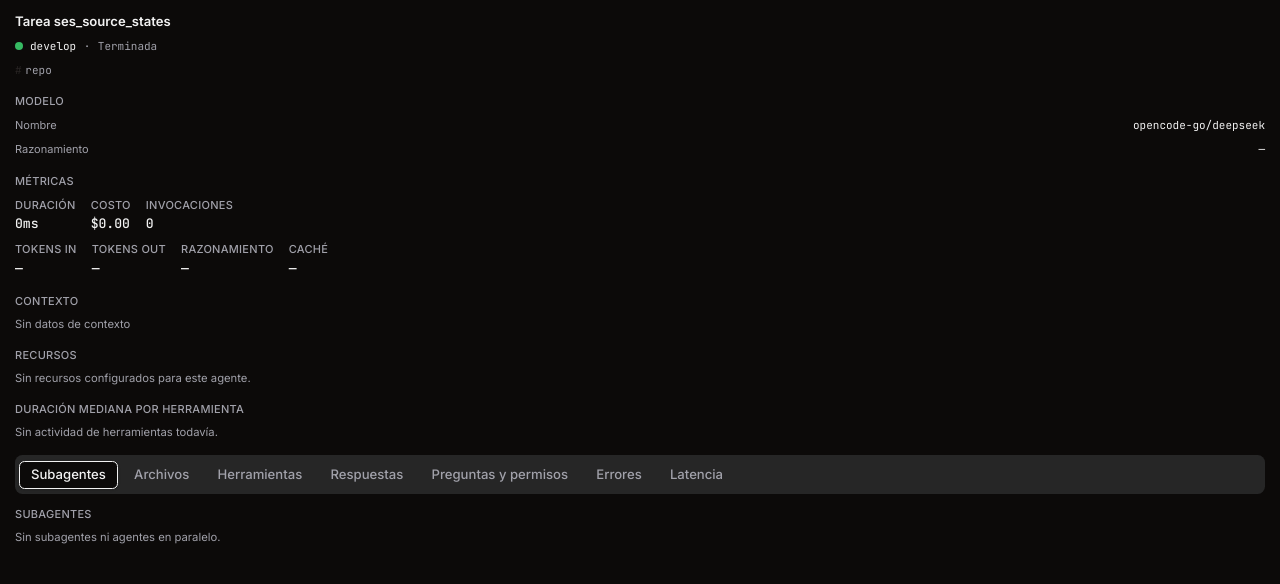
InspectorPanel — estados por fuente de cada sección (§5, U6↔U4) › Preguntas y permisos: solo las preguntas en carga muestran el esqueleto y nunca el vacío
Click the tab "Preguntas y permisos" at (500,475), box left=419, top=461, right=580, bottom=489
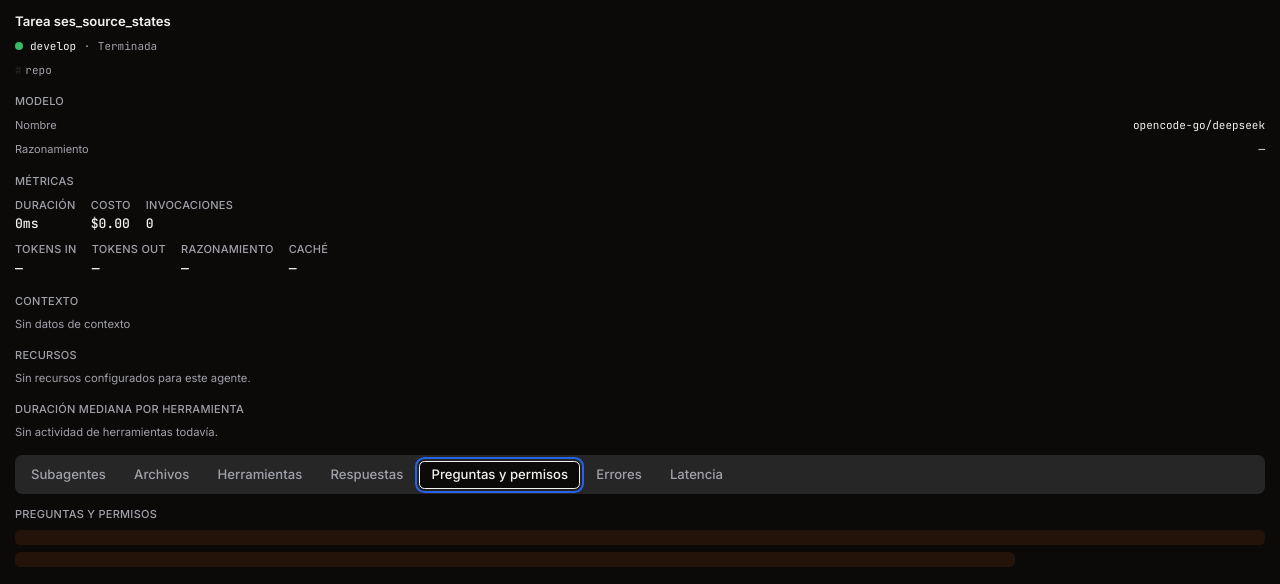
Result: the text "Preguntas y permisos" is shown at left=15, top=506, right=157, bottom=520
